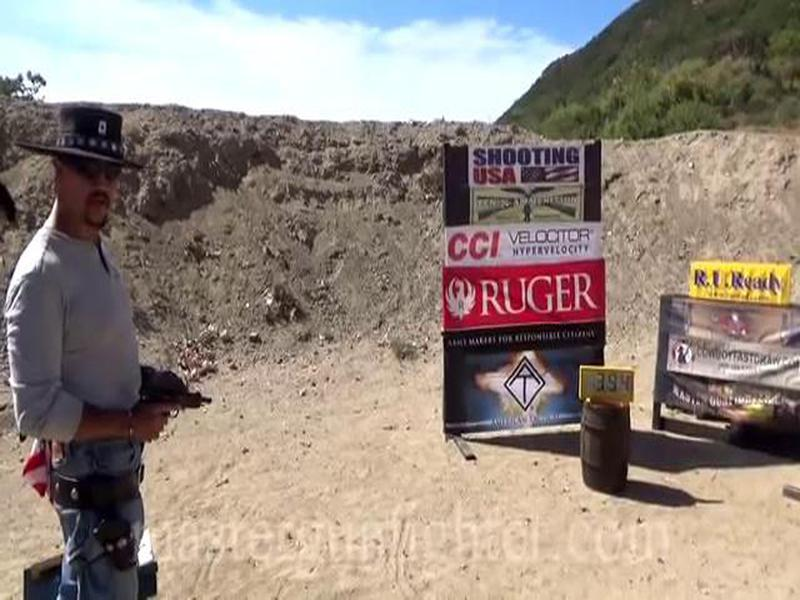Pistola: (127, 381, 217, 440)
